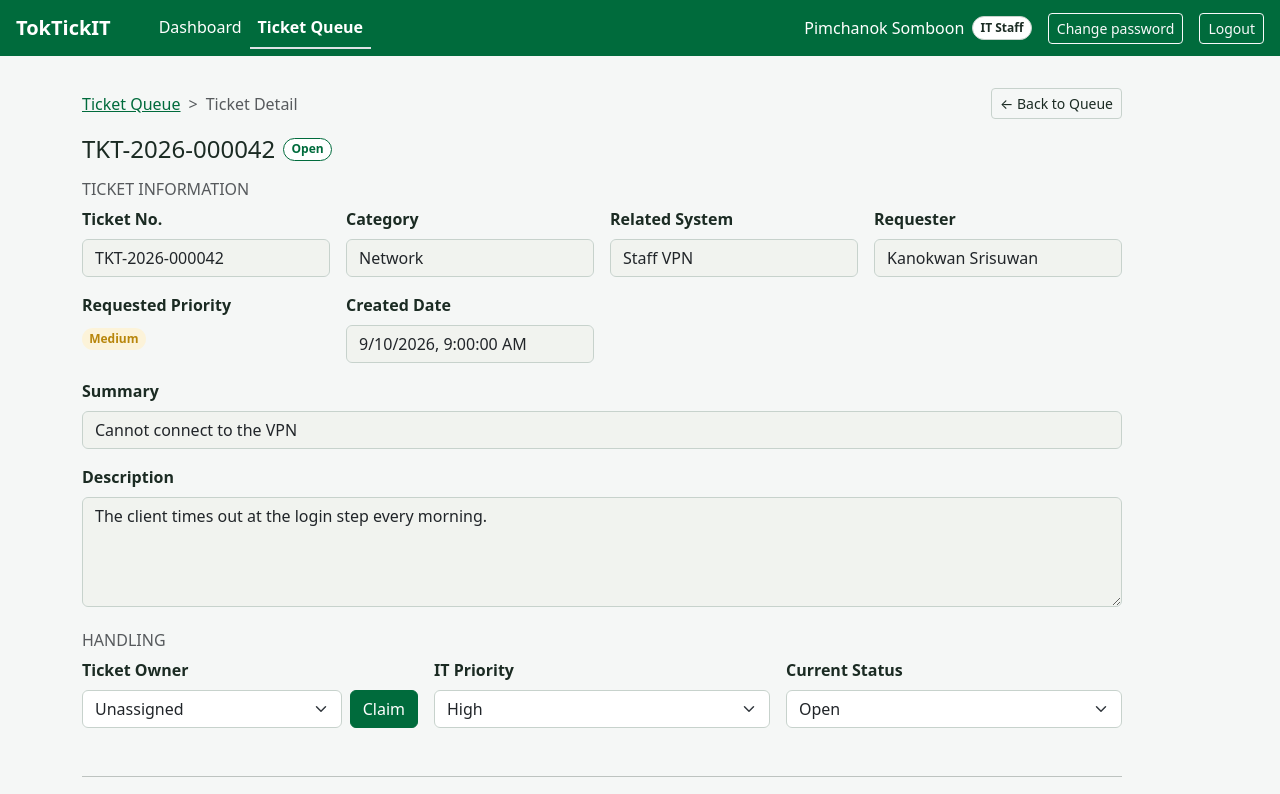
Staff Ticket Detail: IT Priority › changes IT Priority in place, and the Requested Priority is not a control
expect the heading "TKT-2026-000042" is shown: met, box [82,135,275,164]
Select "Low" in the dropdown labelled "IT Priority": (602, 709) [434,690,770,728]
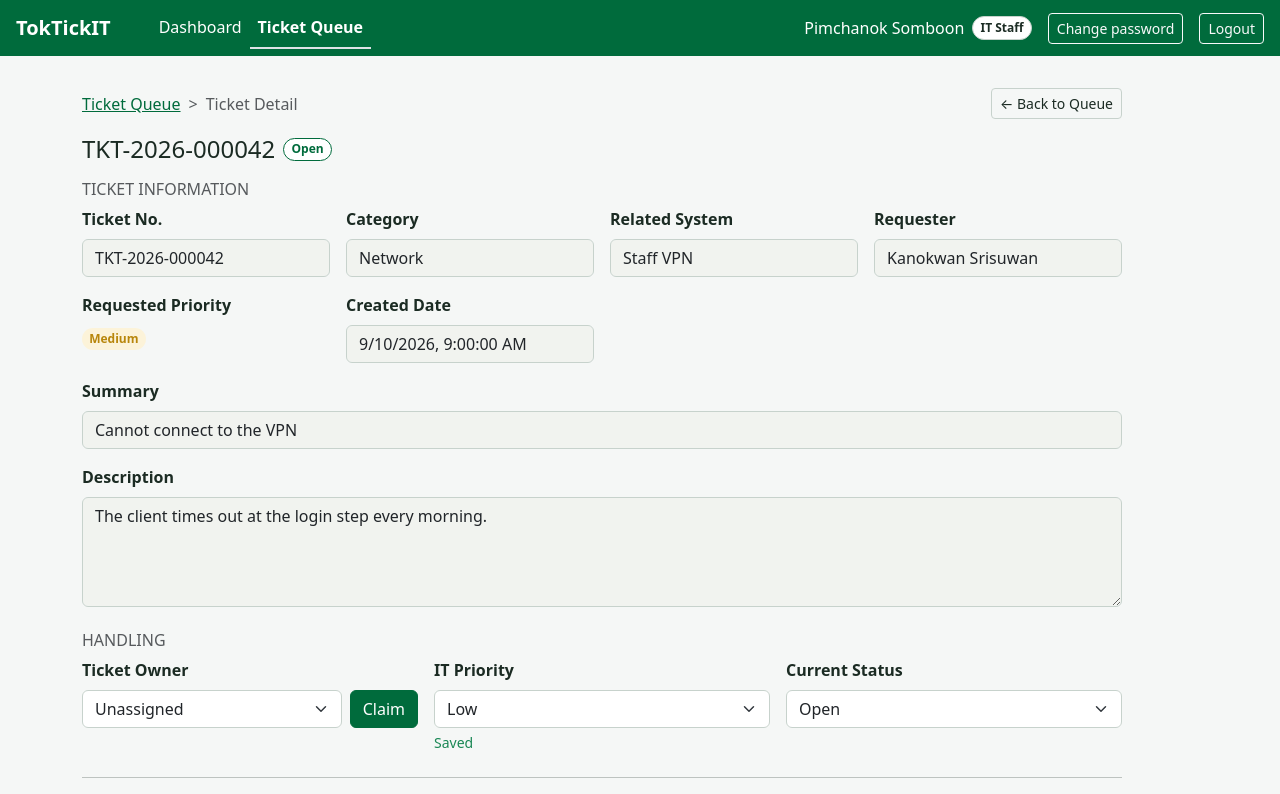
expect the text "Saved" is shown: met, box [434,733,473,752]
